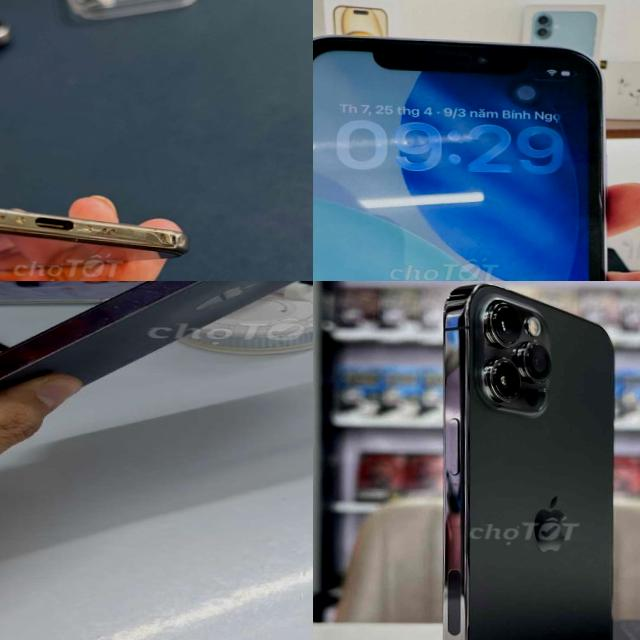gen_11: (313, 26, 629, 281)
gen_12_13: (404, 281, 624, 640)
gen_14: (0, 281, 313, 428)
